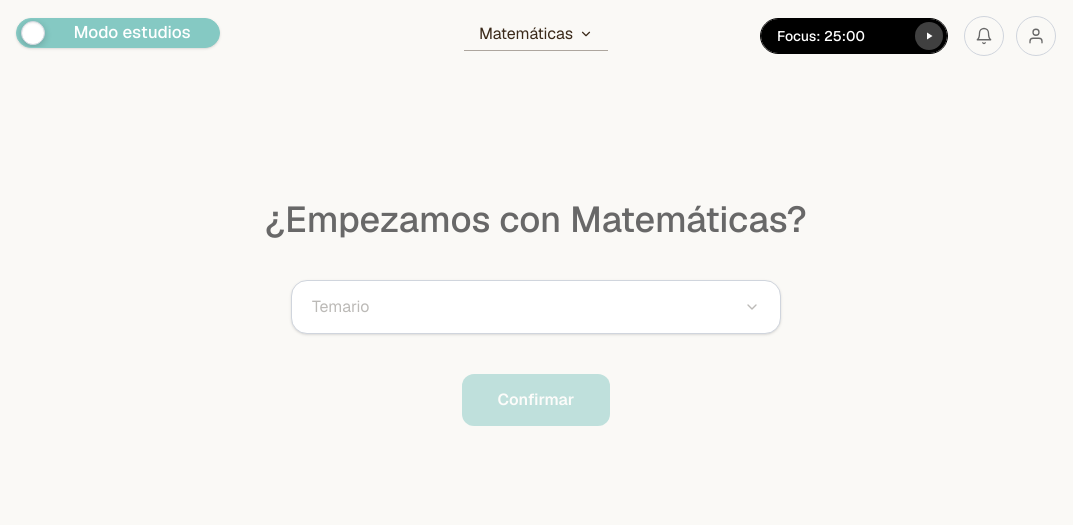
it: Chat — stage de seleção de tópico › should open the chat with the selected topic history after confirming
Click the button with aria-label "Seleccionar tema". click: (341, 306)
box: [291, 280, 781, 334]
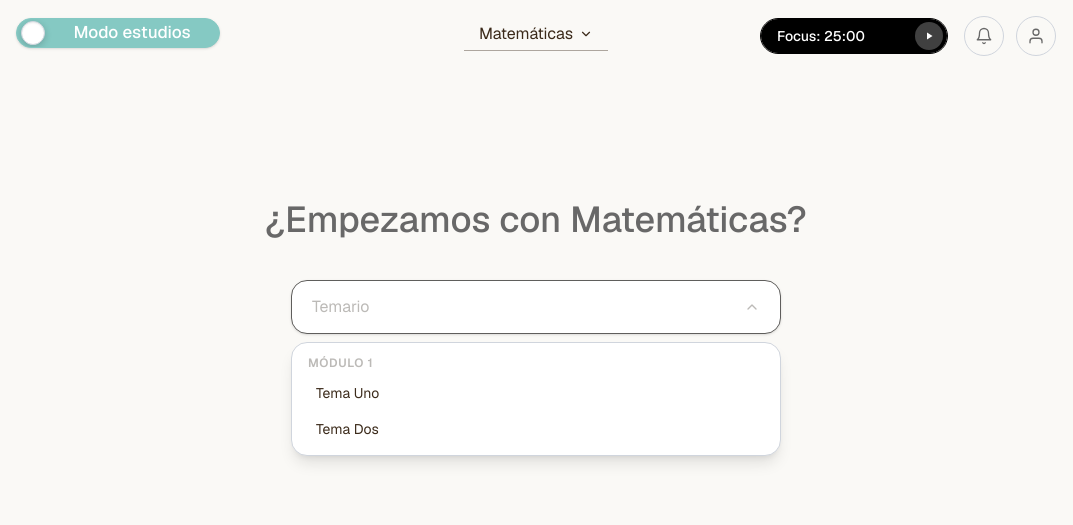
Click the button "Tema Uno". click: (348, 393)
box: [292, 375, 780, 411]
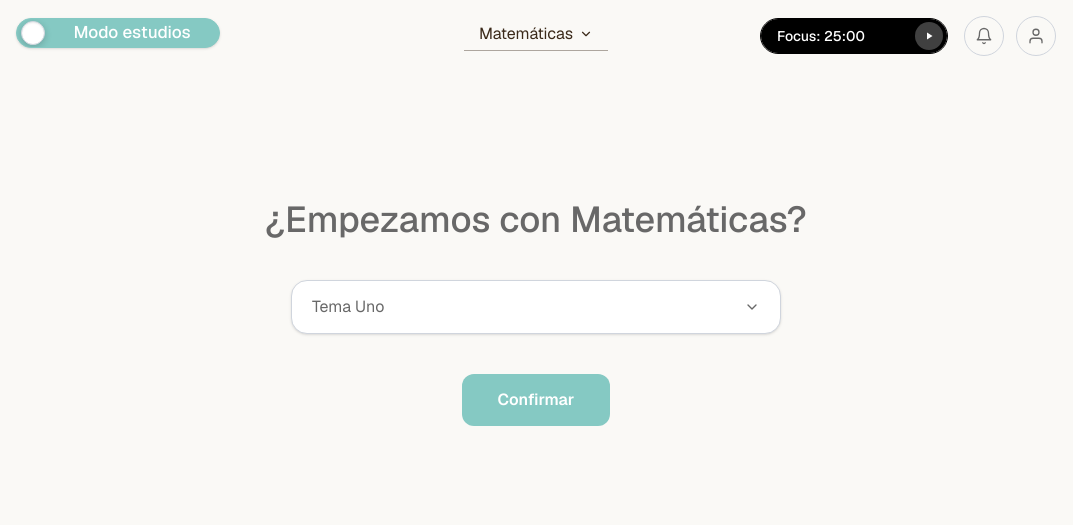
Click the button "Confirmar". click: (536, 400)
box: [462, 374, 610, 426]
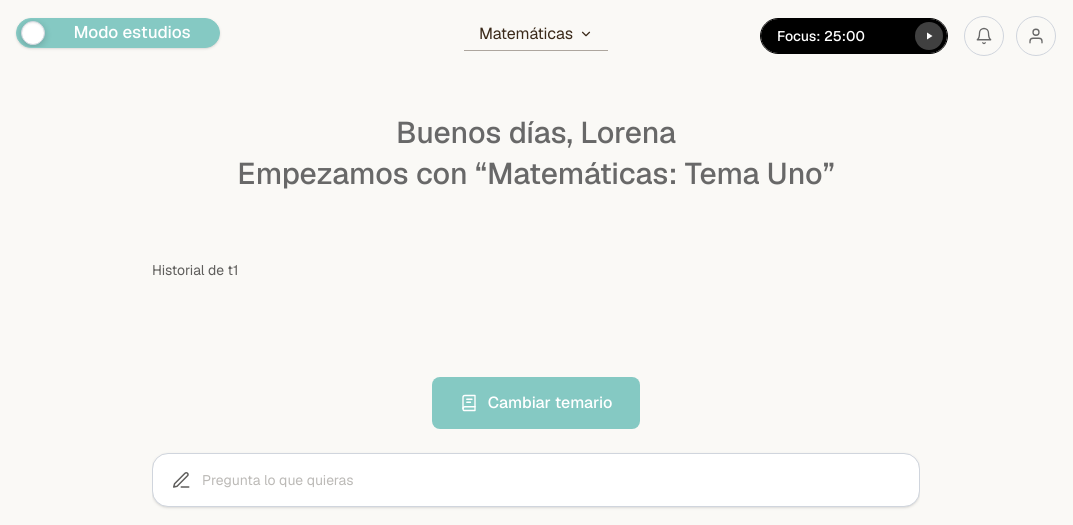
Expected: the text "Historial de t1" is shown, [152, 260, 238, 278]
Expected: the button "Confirmar" is gone
